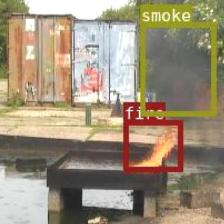fire: (123, 119, 181, 170)
smoke: (139, 21, 215, 115)
